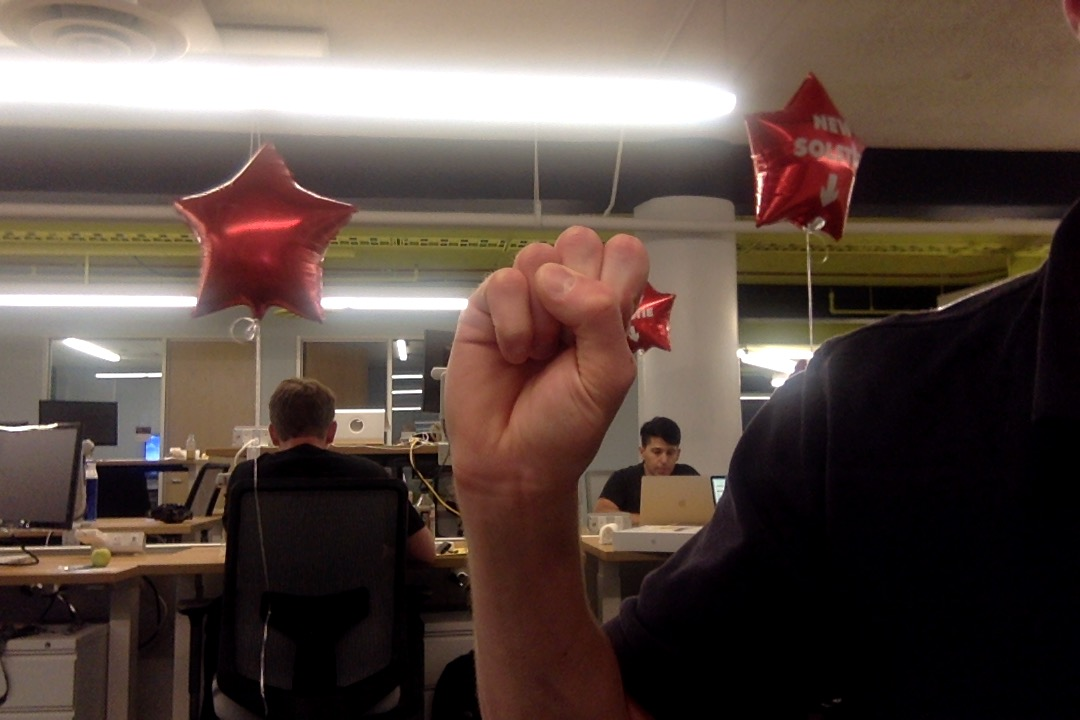s: (439, 217, 653, 499)
